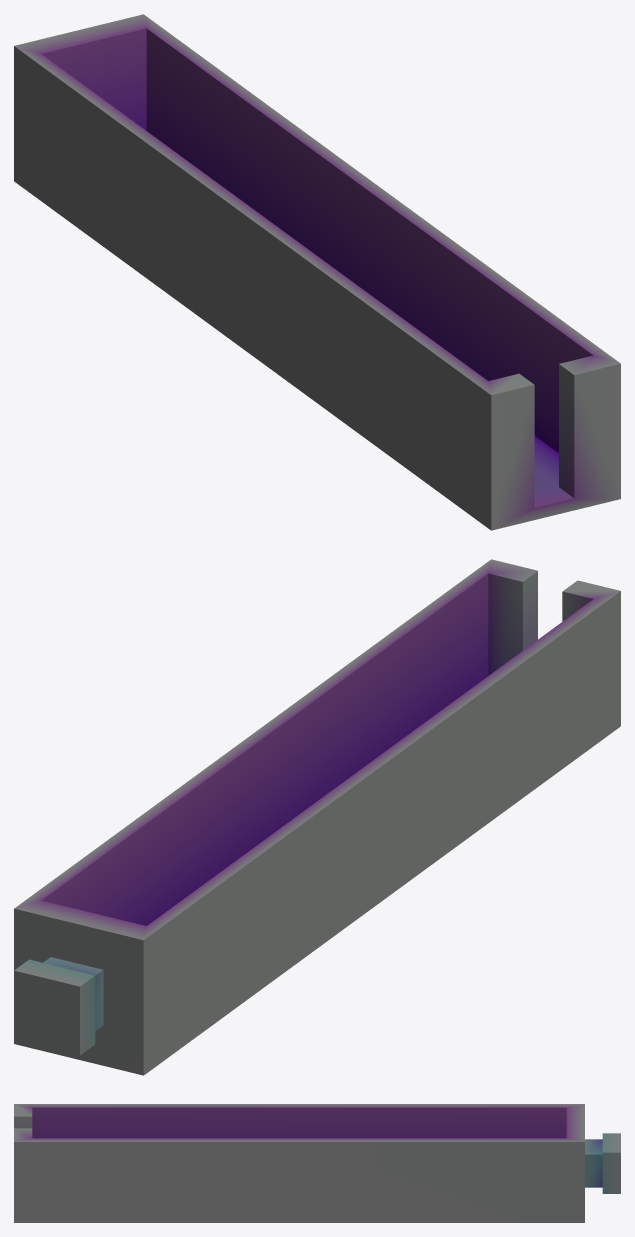
The picture shows the model from 3 angles, top to bottom: view 1: azimuth 30°, elevation 25°; view 2: azimuth 150°, elevation 25°; view 3: azimuth 270°, elevation 25°; orthographic projection. The views are drawn at different scales.
Visible parts, largest first — view 1: trough_shell; view 2: trough_shell, terminal_block; view 3: trough_shell, terminal_block.
Part boxes in pixels (x1=…): trough_shell: x1=14, y1=14, x2=620, y2=530; trough_shell: x1=14, y1=559, x2=620, y2=1075; terminal_block: x1=14, y1=957, x2=103, y2=1055; trough_shell: x1=14, y1=1104, x2=584, y2=1222; terminal_block: x1=585, y1=1133, x2=620, y2=1193.
Size of the model in its own units: 0.1475 by 0.1471 by 0.9995.
